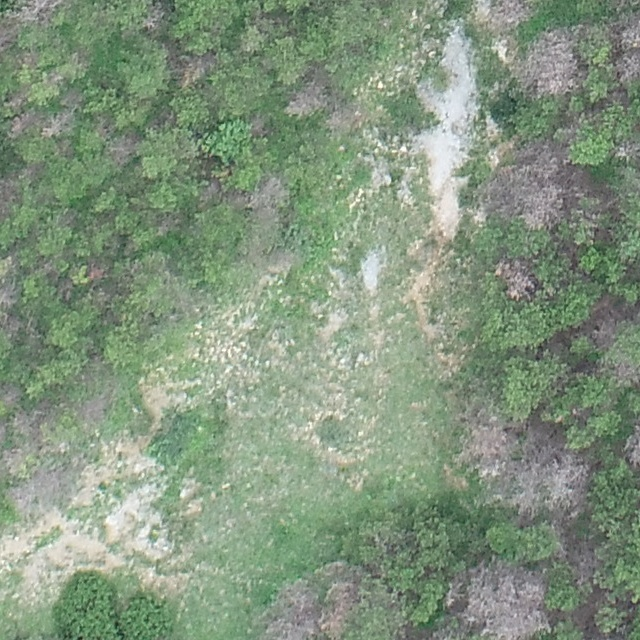unhealthy: (453, 555, 555, 640), (481, 144, 577, 227), (517, 31, 583, 97), (261, 581, 323, 639), (459, 409, 516, 470), (544, 451, 591, 517), (507, 457, 544, 523), (558, 531, 600, 584), (323, 578, 360, 637), (246, 174, 289, 217), (24, 464, 68, 506), (495, 256, 536, 300), (284, 82, 330, 118), (480, 0, 535, 30), (8, 404, 51, 440), (175, 51, 216, 87), (12, 0, 63, 24), (107, 130, 140, 166), (611, 13, 640, 51), (40, 109, 76, 139), (77, 395, 113, 424), (623, 416, 640, 471), (139, 3, 168, 35), (325, 106, 358, 133), (0, 170, 18, 218), (614, 51, 640, 84), (0, 14, 18, 58), (612, 361, 639, 389), (8, 111, 36, 137), (612, 138, 639, 164), (198, 178, 221, 206), (0, 383, 24, 409), (248, 111, 271, 136), (0, 311, 22, 336), (60, 87, 86, 108), (0, 282, 18, 310), (87, 261, 109, 282), (0, 419, 8, 444)
